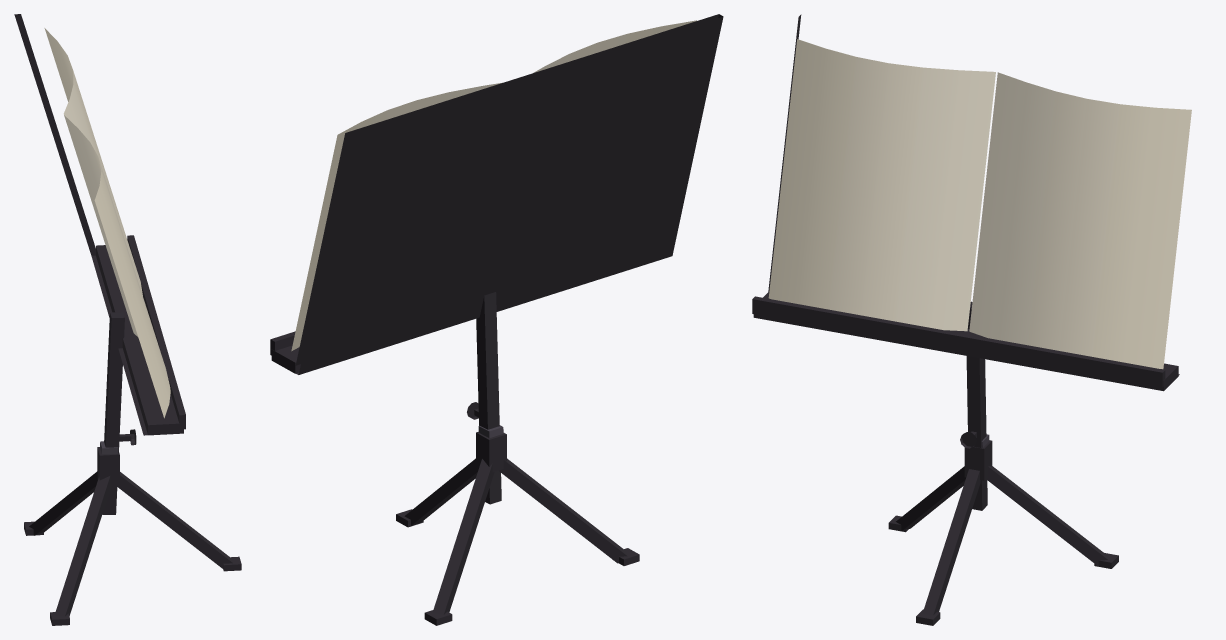
The model's file is music-stand.glb.
3 renders of one model, left to right at view 1: azimuth 30°, elevation 25°; view 2: azimuth 150°, elevation 25°; view 3: azimuth 270°, elevation 25°, orthographic. The views are drawn at different scales.
Parts seen in each view (by area): view 1: music-stand; view 2: music-stand; view 3: music-stand.
Boxes of the visible parts, box(x1,y1,x2,y2) form: music-stand: box(14, 14, 241, 625); music-stand: box(270, 14, 723, 625); music-stand: box(752, 14, 1191, 625).
Bounding box in the file's own units: 1.23 × 2.31 × 1.96.
